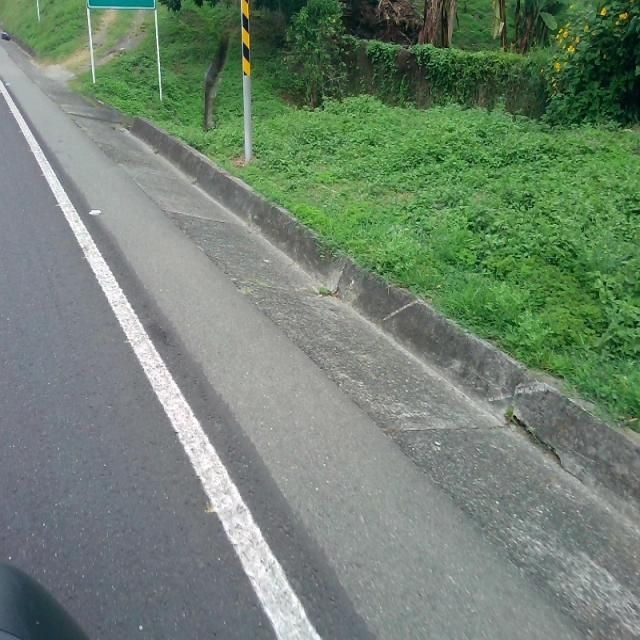DITCH: (3, 1, 638, 638), (1, 29, 638, 638)
